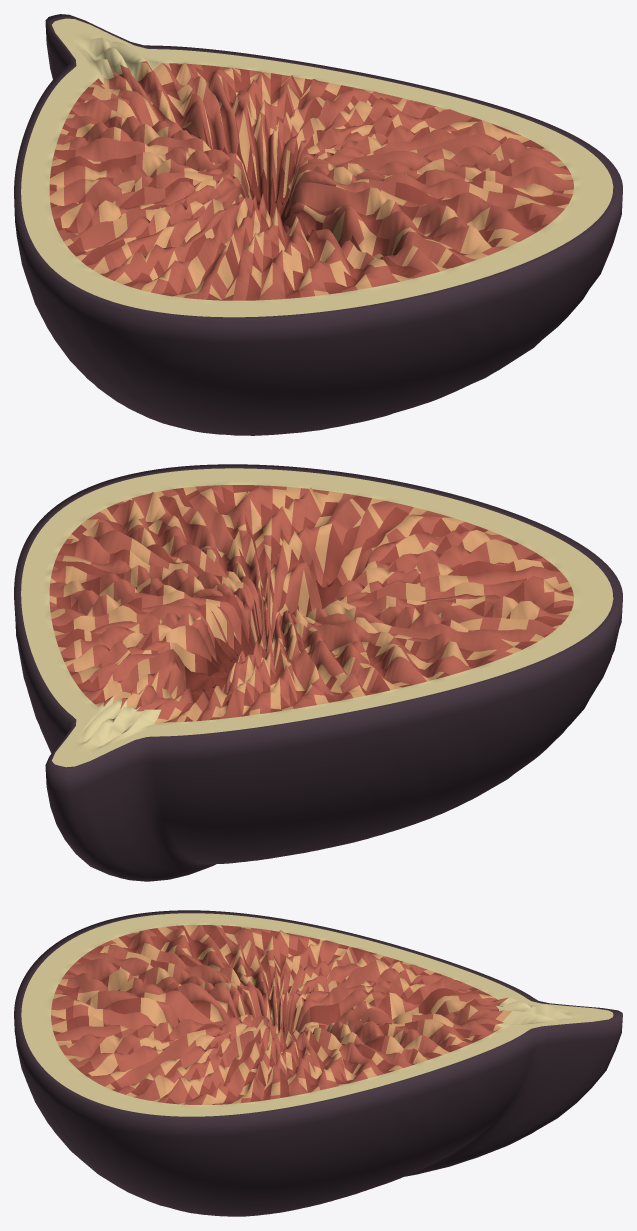
3 renders of one model, top to bottom at view 1: azimuth 30°, elevation 25°; view 2: azimuth 150°, elevation 25°; view 3: azimuth 270°, elevation 25°, orthographic. The views are drawn at different scales.
Parts seen in each view (by area): view 1: NEW348_FigHalf_LOD2; view 2: NEW348_FigHalf_LOD2; view 3: NEW348_FigHalf_LOD2.
Part boxes in pixels (box(x1,y1,x2,y2)): NEW348_FigHalf_LOD2: box(14, 14, 622, 435); NEW348_FigHalf_LOD2: box(14, 464, 622, 881); NEW348_FigHalf_LOD2: box(14, 910, 622, 1216).
Size of the model in its own units: 0.0651 by 0.0272 by 0.08.
